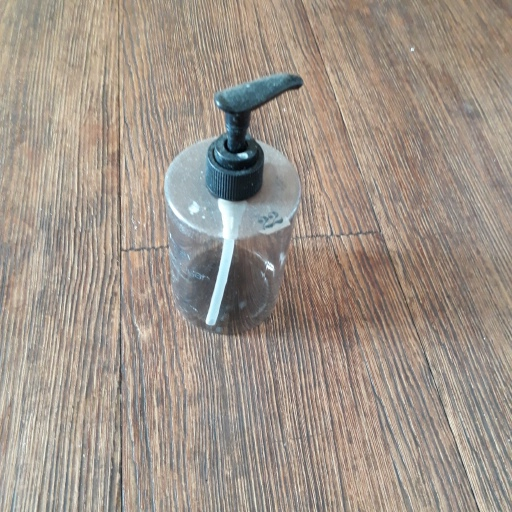Plastic_3: (160, 71, 306, 334)
